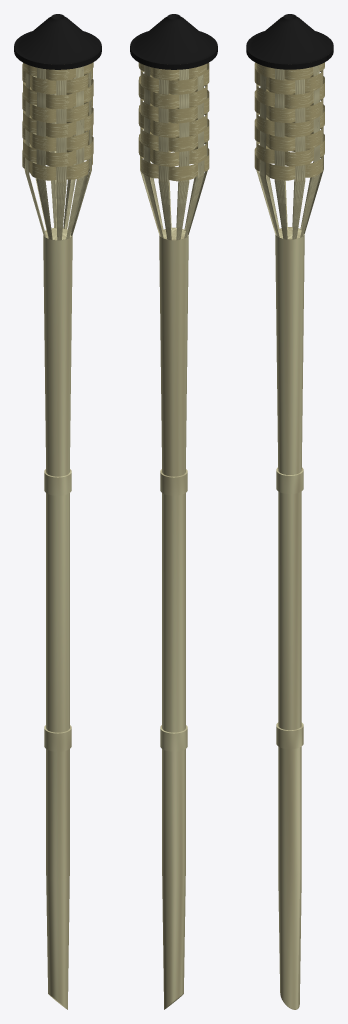
Rendered from Tiki Torch.fbx.
3 views of the same model, side by side, from view 1: azimuth 30°, elevation 25°; view 2: azimuth 150°, elevation 25°; view 3: azimuth 330°, elevation 25° (orthographic).
Visible parts, largest first — view 1: Torch, Bark, Cap; view 2: Torch, Bark, Cap; view 3: Torch, Bark, Cap.
Boxes of the visible parts, x1=… form: Torch: x1=24, y1=66, x2=91, y2=1009; Bark: x1=22, y1=62, x2=93, y2=180; Cap: x1=14, y1=14, x2=101, y2=69; Torch: x1=140, y1=65, x2=207, y2=1009; Bark: x1=138, y1=62, x2=209, y2=181; Cap: x1=130, y1=14, x2=217, y2=69; Torch: x1=256, y1=65, x2=323, y2=1009; Bark: x1=254, y1=62, x2=324, y2=180; Cap: x1=246, y1=14, x2=333, y2=69.
Size of the model in its own units: 7263 by 90590 by 7263.
1 material, 1 textured.
